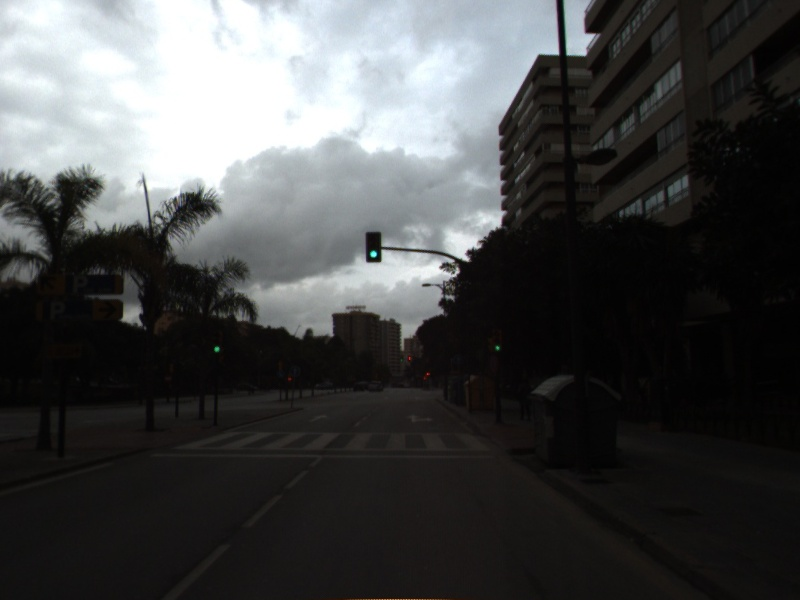STRAIGHT: (306, 413, 330, 424)
STRAIGHT_RIGHT: (404, 412, 435, 425)
